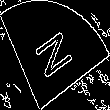N_SW: (32, 25, 78, 85)
